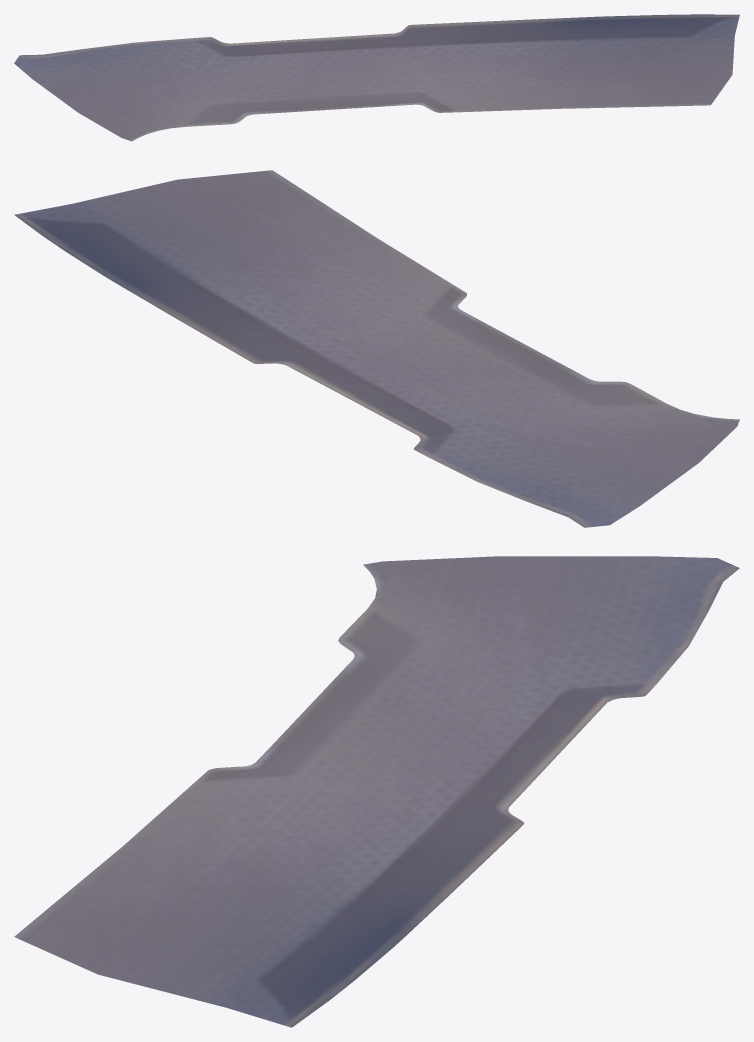
Rendered from pref_fx_redslowareaeffect_beta03_roadb_02_lv0.fbx.
The picture shows the model from 3 angles, top to bottom: view 1: azimuth 30°, elevation 25°; view 2: azimuth 150°, elevation 25°; view 3: azimuth 270°, elevation 25°; orthographic projection. The views are drawn at different scales.
Visible parts, largest first — view 1: color (1); view 2: color (1); view 3: color (1).
Boxes of the visible parts, bbox=[...] form: color (1): bbox=[14, 14, 739, 141]; color (1): bbox=[14, 170, 739, 527]; color (1): bbox=[14, 556, 739, 1027].
Size of the model in its own units: 23.89 by 2.95e-05 by 15.54.
